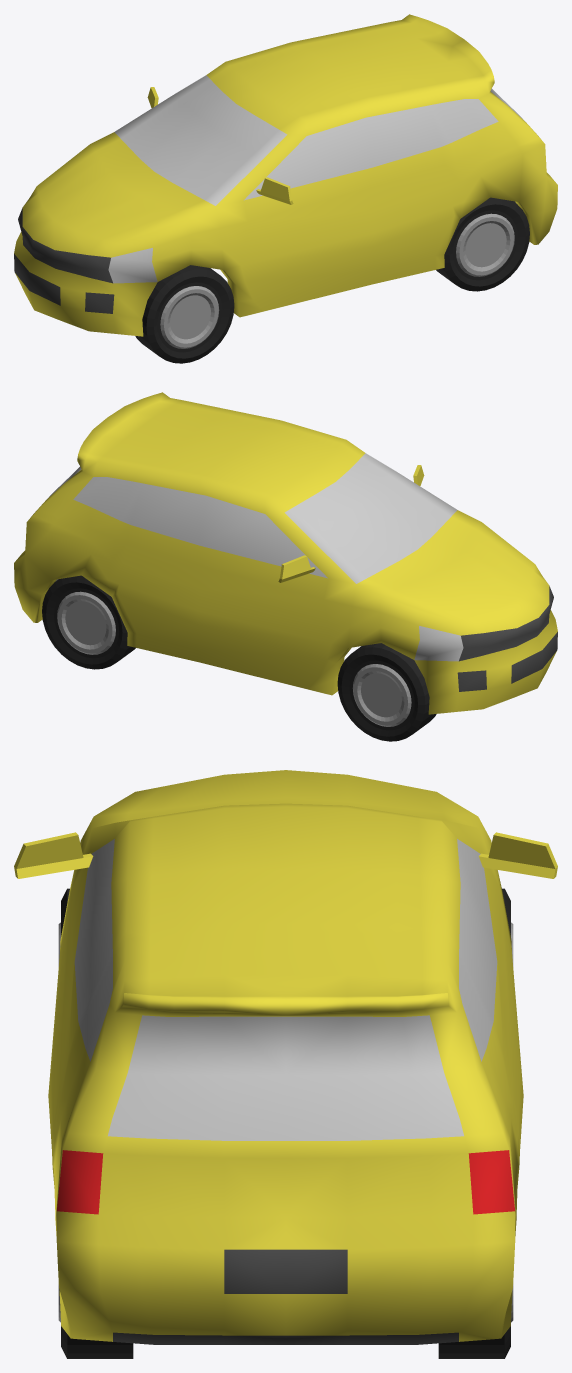
File: Honda Brio.fbx
3 renders of one model, top to bottom at view 1: azimuth 30°, elevation 25°; view 2: azimuth 150°, elevation 25°; view 3: azimuth 270°, elevation 25°, orthographic. The views are drawn at different scales.
Parts seen in each view (by area): view 1: Cube, Cylinder, Cube.001; view 2: Cube, Cylinder, Cube.001; view 3: Cube, Cube.001, Cylinder.
Boxes of the visible parts, bbox=[...] form: Cube: bbox=[14, 14, 557, 336]; Cylinder: bbox=[135, 197, 529, 363]; Cube.001: bbox=[147, 87, 293, 204]; Cube: bbox=[14, 392, 557, 714]; Cylinder: bbox=[42, 575, 436, 741]; Cube.001: bbox=[278, 465, 424, 582]; Cube: bbox=[48, 770, 523, 1344]; Cube.001: bbox=[14, 832, 557, 878]; Cylinder: bbox=[58, 888, 513, 1358].
Size of the model in its own units: 1783 by 728 by 920.
